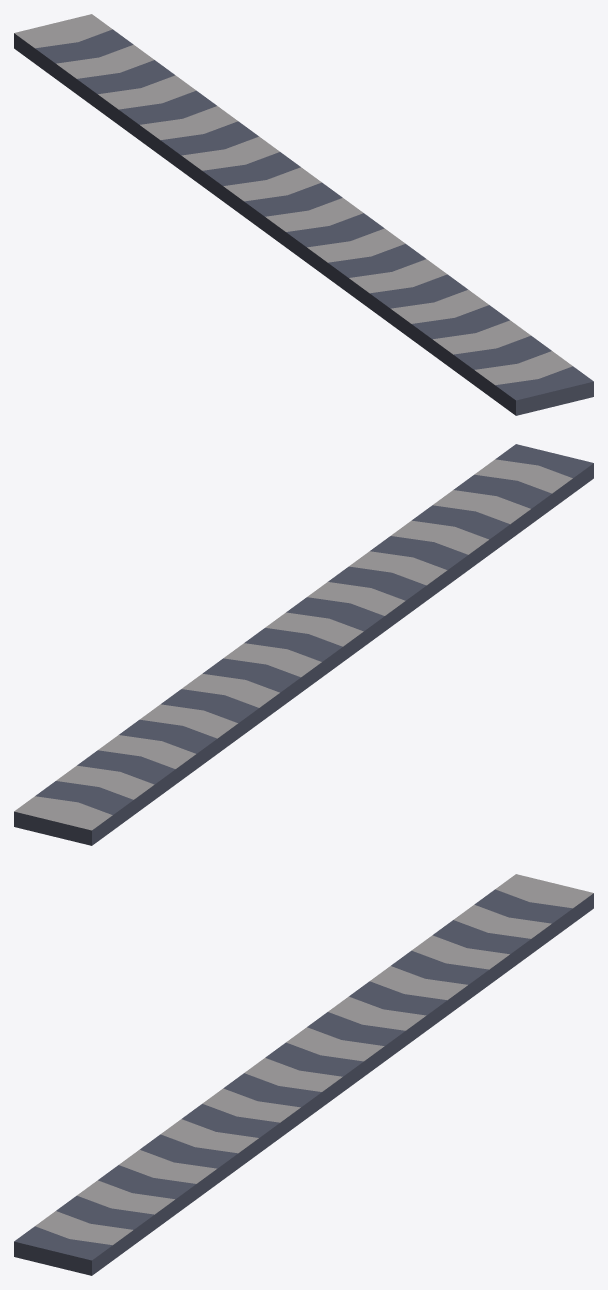
The model's file is Road.fbx.
3 views of the same model, one above another, from view 1: azimuth 30°, elevation 25°; view 2: azimuth 150°, elevation 25°; view 3: azimuth 330°, elevation 25° (orthographic).
Visible parts, largest first — view 1: Cube; view 2: Cube; view 3: Cube.
Part boxes in pixels (x1=…): Cube: x1=14, y1=14, x2=593, y2=415; Cube: x1=14, y1=444, x2=593, y2=845; Cube: x1=14, y1=874, x2=593, y2=1275.
Size of the model in its own units: 300 by 56.72 by 3347.
